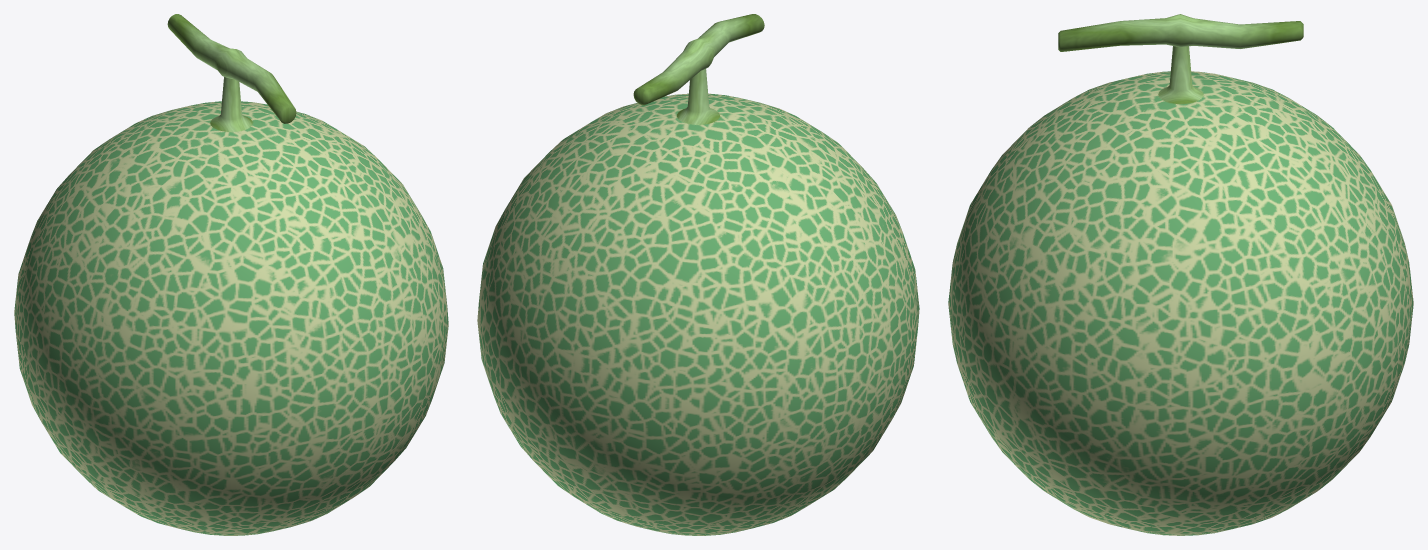
The model's file is Melon_0101.fbx.
3 views of the same model, side by side, from view 1: azimuth 30°, elevation 25°; view 2: azimuth 150°, elevation 25°; view 3: azimuth 270°, elevation 25° (orthographic). The views are drawn at different scales.
Visible parts, largest first — view 1: Melon_0101; view 2: Melon_0101; view 3: Melon_0101.
Part boxes in pixels (x1=…): Melon_0101: x1=14, y1=14, x2=448, y2=535; Melon_0101: x1=477, y1=14, x2=919, y2=535; Melon_0101: x1=948, y1=14, x2=1413, y2=535.
Size of the model in its own units: 0.3 by 0.3547 by 0.3.
